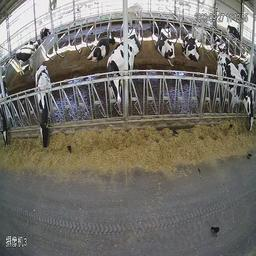cow: (213, 52, 249, 110), (100, 41, 131, 107), (33, 64, 51, 147), (238, 64, 255, 134), (15, 37, 39, 73), (87, 33, 116, 62), (180, 31, 199, 62), (157, 27, 175, 58), (1, 82, 9, 151), (128, 23, 141, 56), (225, 23, 243, 42), (242, 47, 254, 74), (210, 29, 224, 52), (128, 3, 143, 24), (193, 23, 207, 43), (150, 17, 165, 33), (40, 23, 51, 41)
